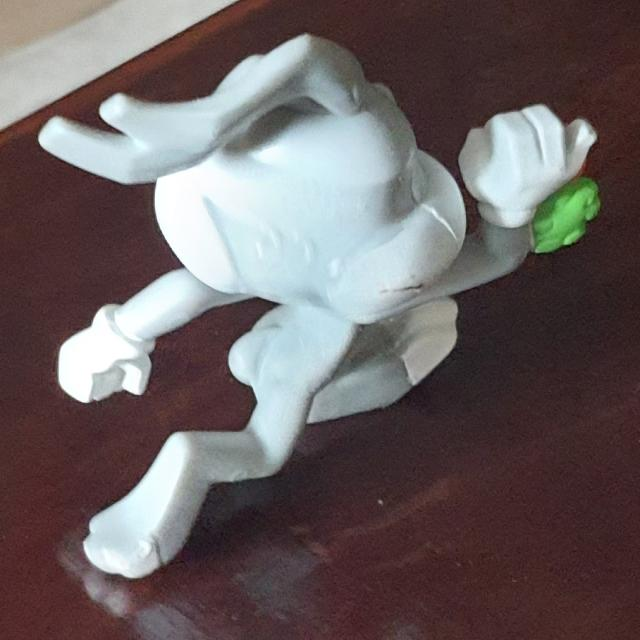Rabbit: (38, 31, 601, 579)
